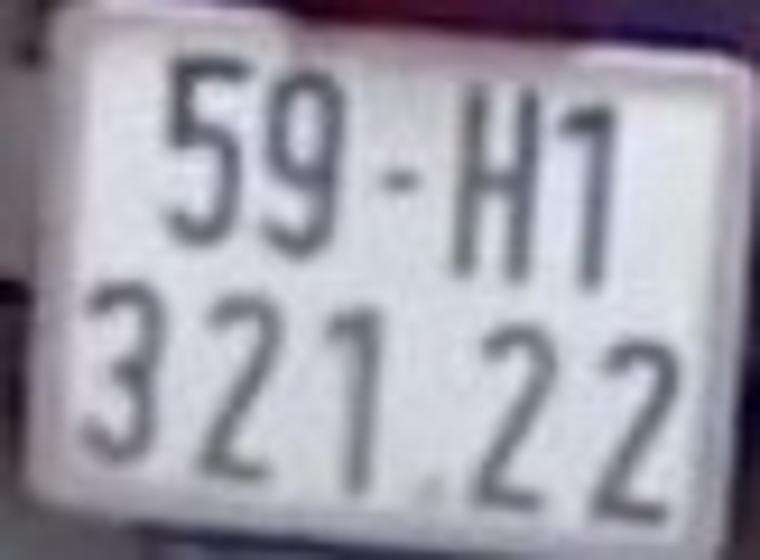-: (381, 171, 416, 192)
.: (419, 483, 438, 502)
1: (564, 101, 609, 293), (331, 306, 375, 496)
2: (195, 294, 275, 481), (595, 335, 672, 528), (473, 328, 553, 508)
3: (79, 280, 154, 468)
5: (167, 52, 241, 244)
9: (264, 72, 344, 253)
H: (454, 85, 531, 283)
